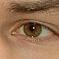eye: (24, 24, 41, 36)
